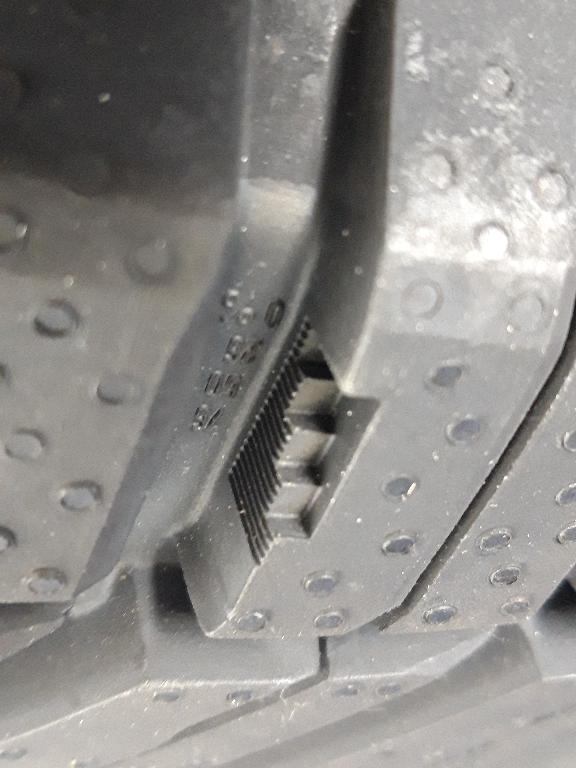temoin:100: (222, 308, 393, 578)
